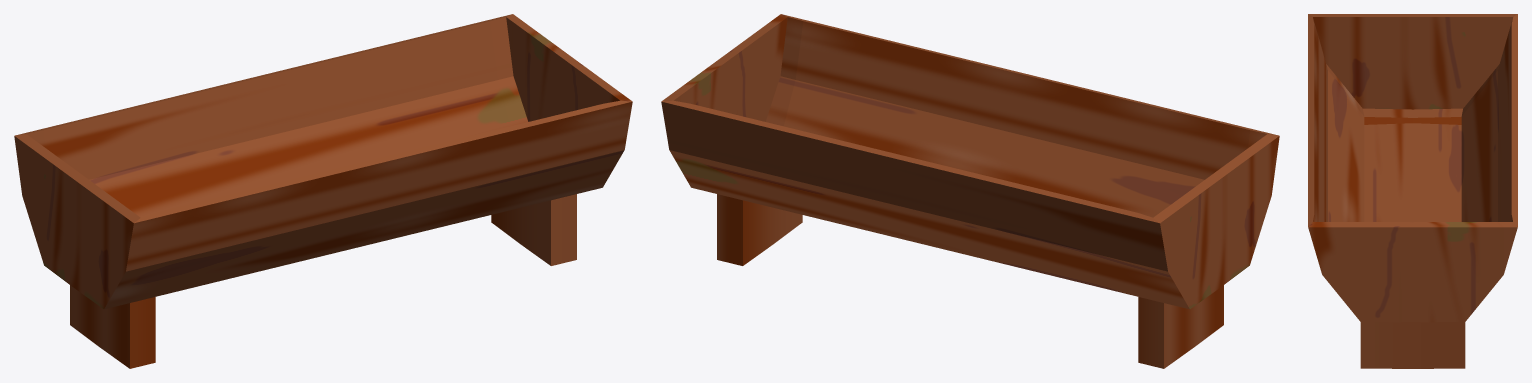
The model's file is El_Master_Cocho.fbx.
The picture shows the model from 3 angles, left to right: view 1: azimuth 30°, elevation 25°; view 2: azimuth 150°, elevation 25°; view 3: azimuth 270°, elevation 25°; orthographic projection. The views are drawn at different scales.
Visible parts, largest first — view 1: cocho; view 2: cocho; view 3: cocho.
Boxes of the visible parts, left/top/right/bottom form: cocho: left=14, top=14, right=632, bottom=368; cocho: left=661, top=14, right=1279, bottom=368; cocho: left=1308, top=14, right=1517, bottom=368.
Size of the model in its own units: 481 by 162 by 200.
